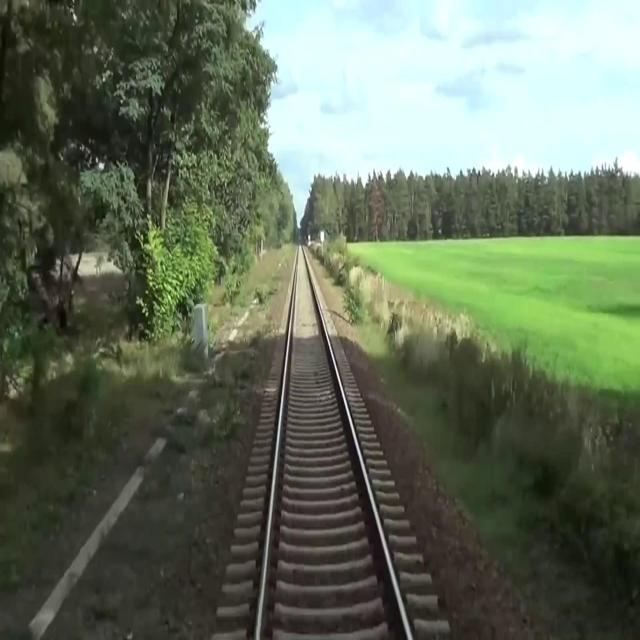rail-track: (259, 241, 407, 639)
